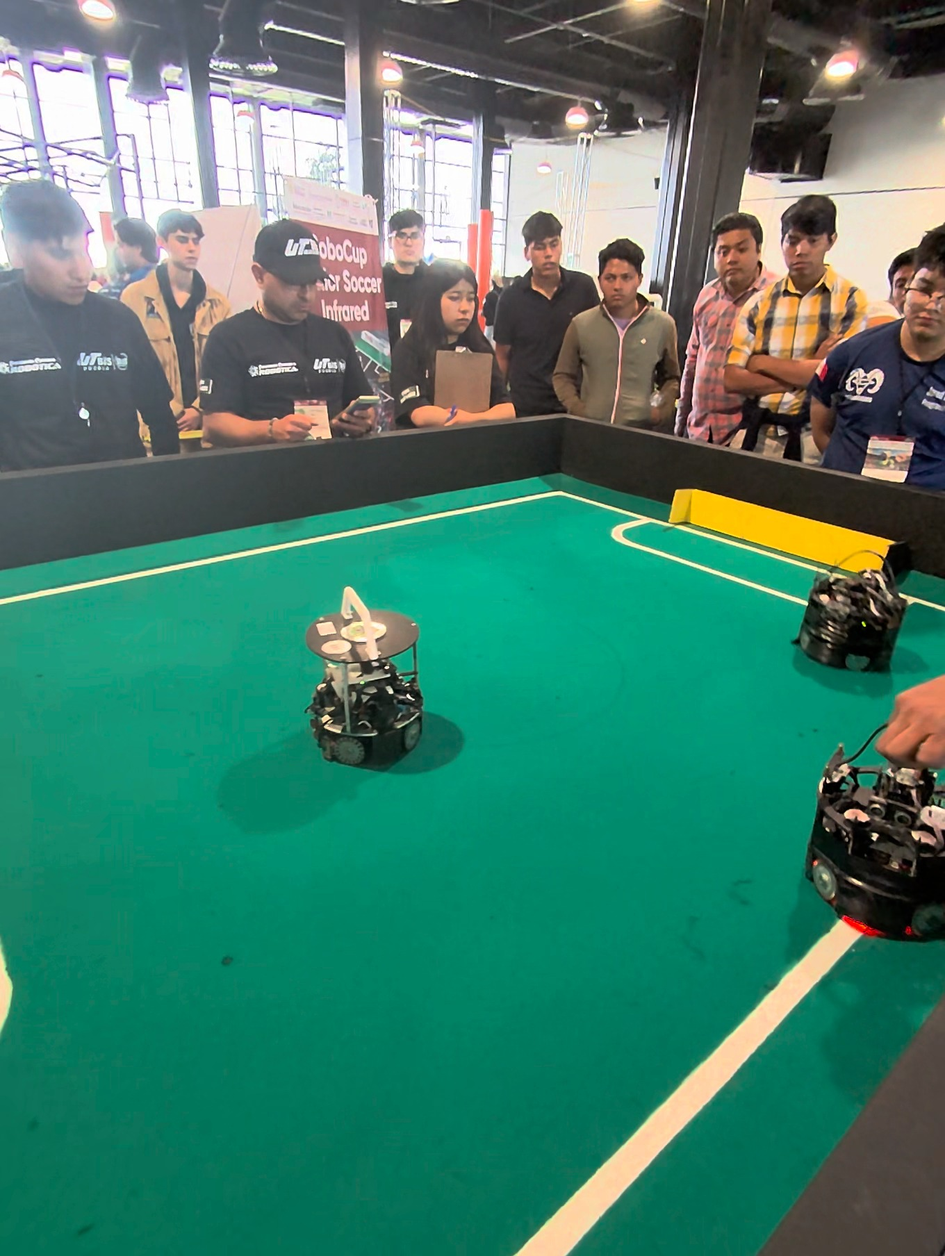Robot: (806, 700, 945, 962), (295, 578, 426, 786), (792, 545, 908, 678)
